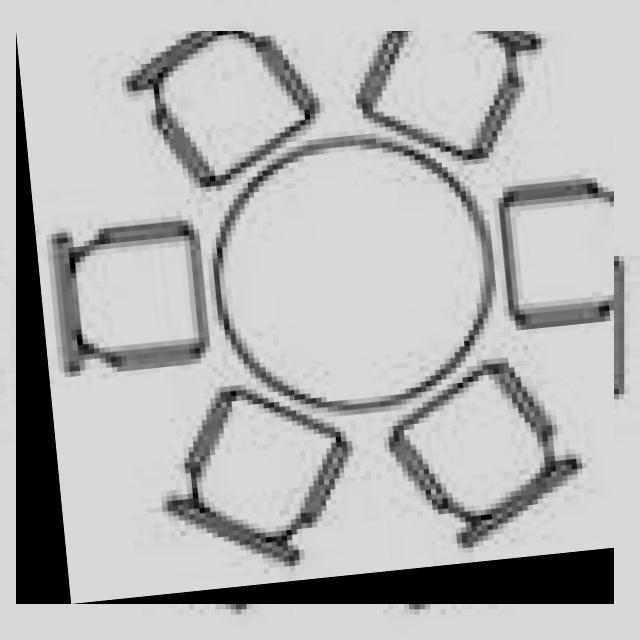table: (16, 31, 614, 604)
